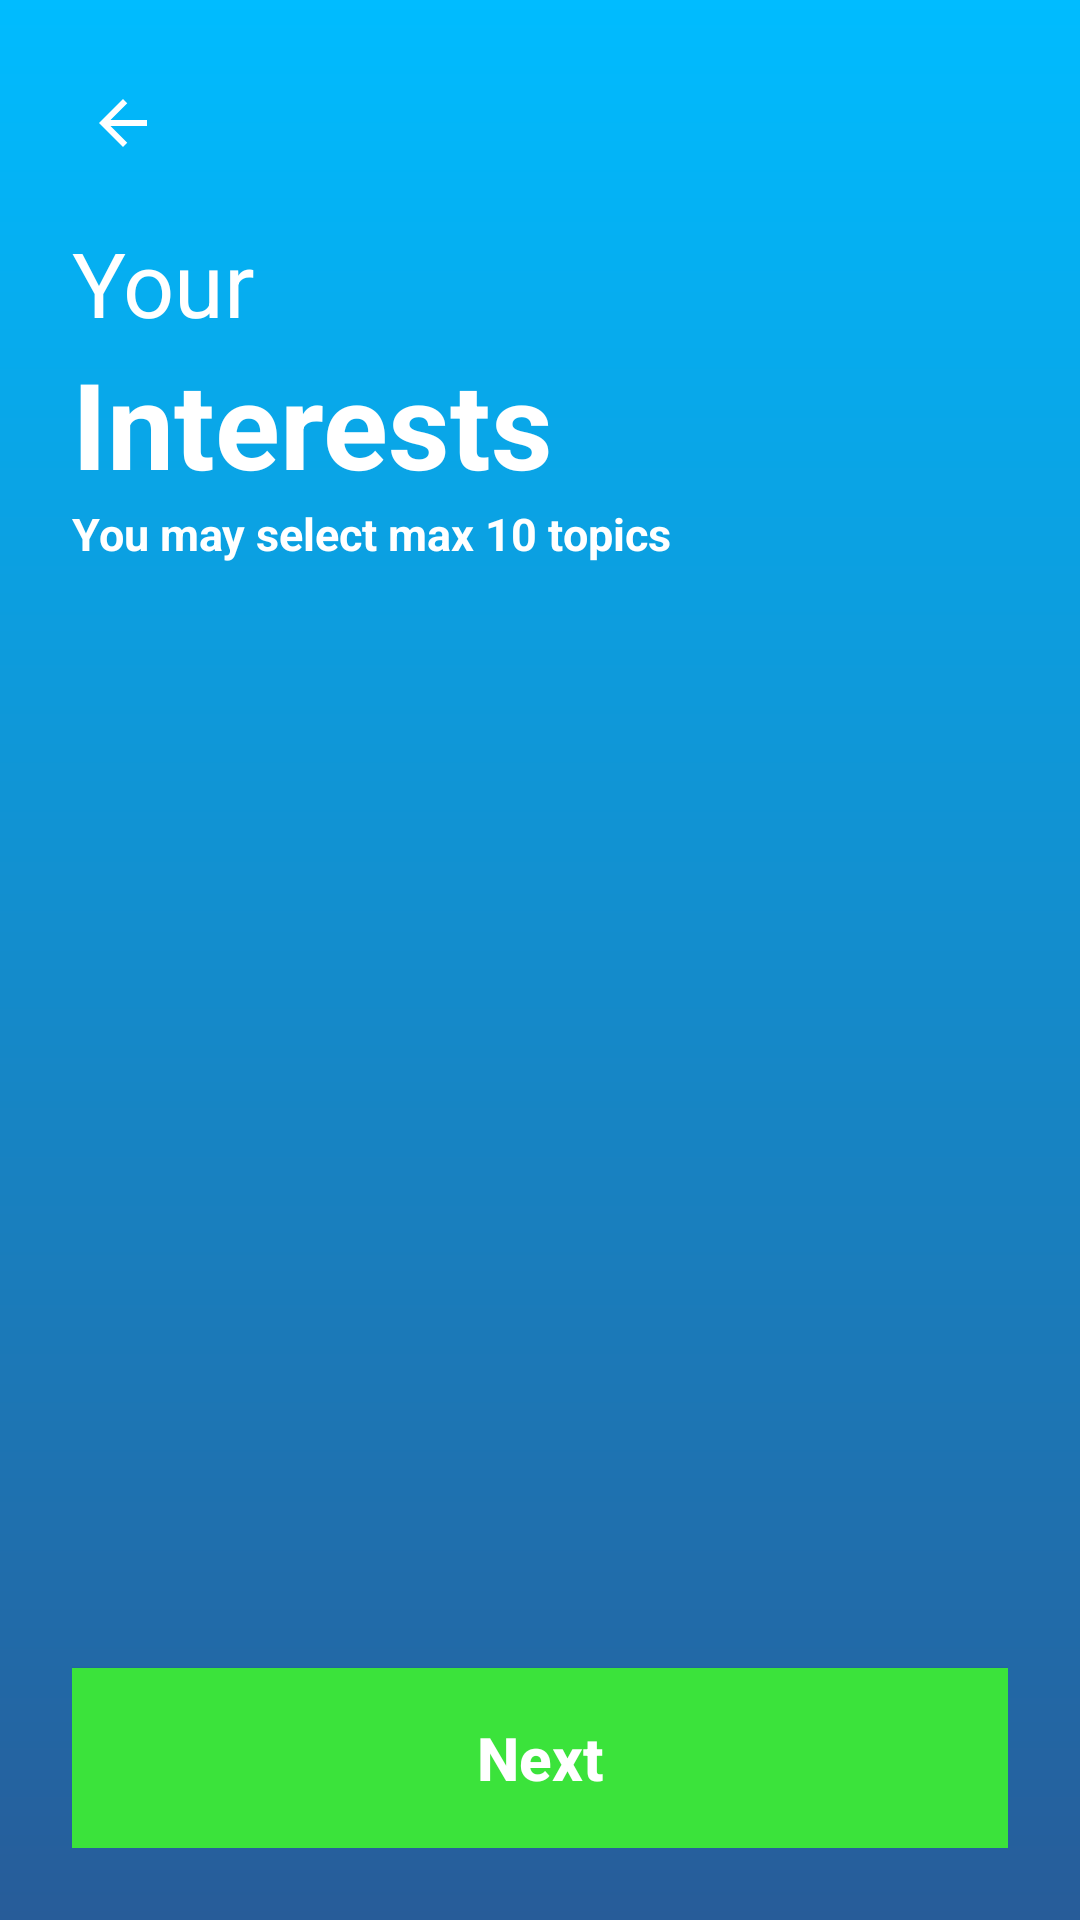

Screen size 1080px x 1920px. Icon name, then its center in pixels as (x,y):
Back: (123,123)
